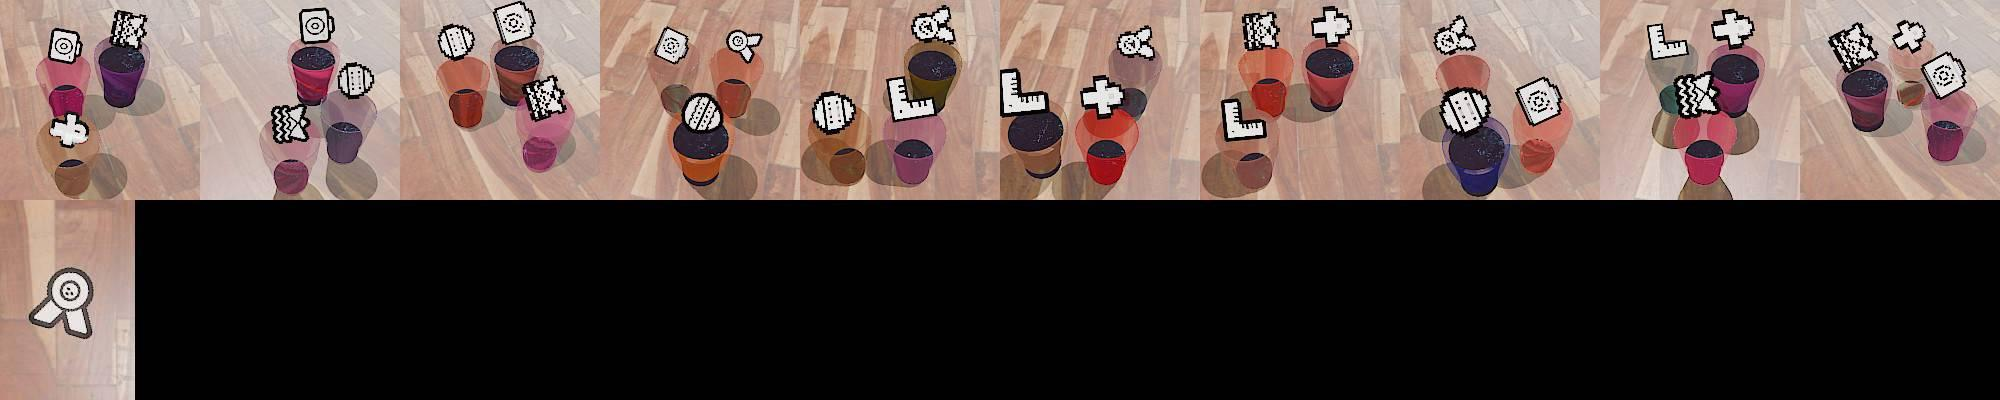icon: (28, 265, 97, 340), (885, 73, 940, 124), (999, 66, 1050, 120), (1437, 85, 1492, 135), (1827, 20, 1880, 70), (1514, 76, 1564, 126), (1673, 70, 1722, 118), (1921, 51, 1967, 101), (523, 74, 569, 121), (1219, 96, 1267, 141), (1078, 74, 1126, 117), (810, 90, 857, 134), (492, 0, 536, 46), (1709, 8, 1755, 50), (1434, 14, 1477, 57), (1647, 20, 1690, 64), (1310, 5, 1353, 47), (269, 101, 312, 143), (911, 5, 955, 45), (47, 110, 91, 148), (1242, 10, 1281, 52), (110, 9, 149, 48), (47, 25, 85, 65), (437, 23, 476, 61), (335, 61, 374, 99), (653, 25, 690, 64), (1116, 24, 1156, 60), (682, 94, 722, 130), (298, 8, 334, 46), (724, 28, 764, 61), (1892, 19, 1926, 54)
